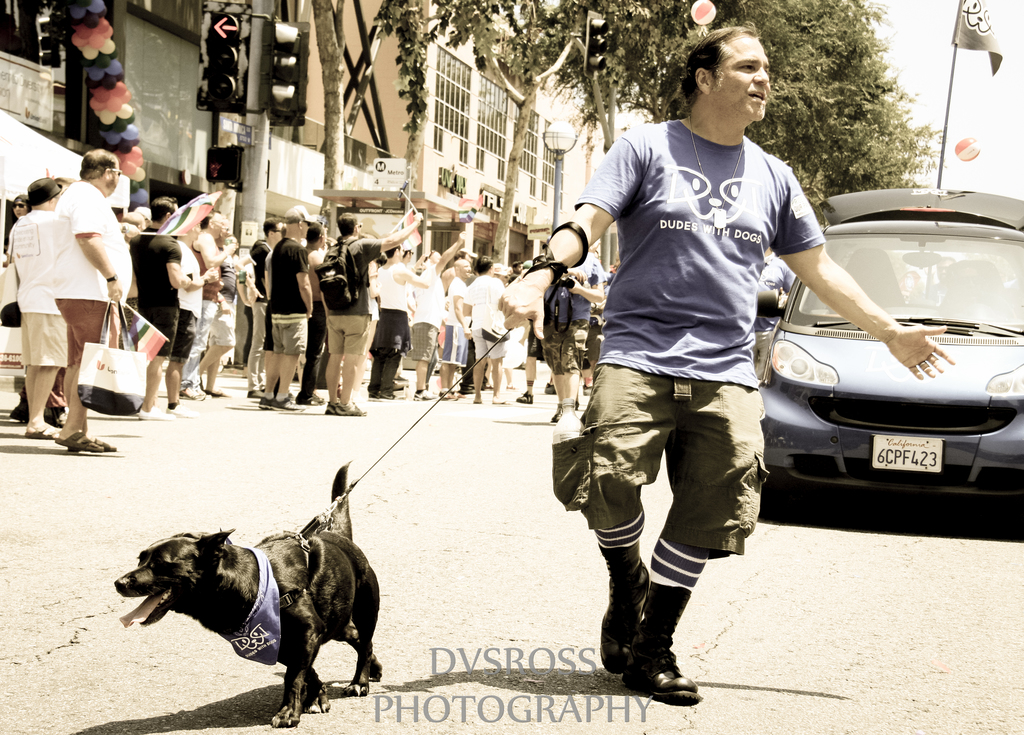mobil: (756, 200, 1024, 530)
